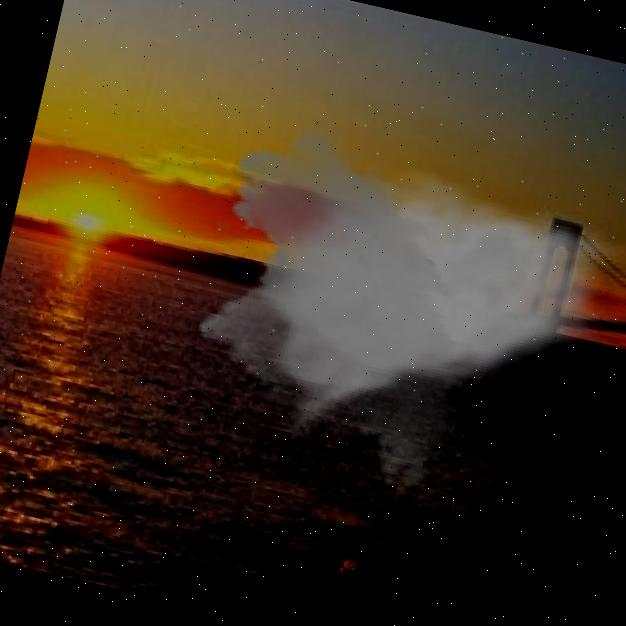smoke: (161, 99, 626, 535)
